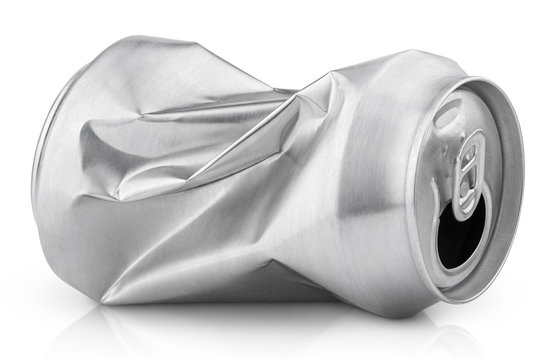can: (30, 34, 525, 321)
